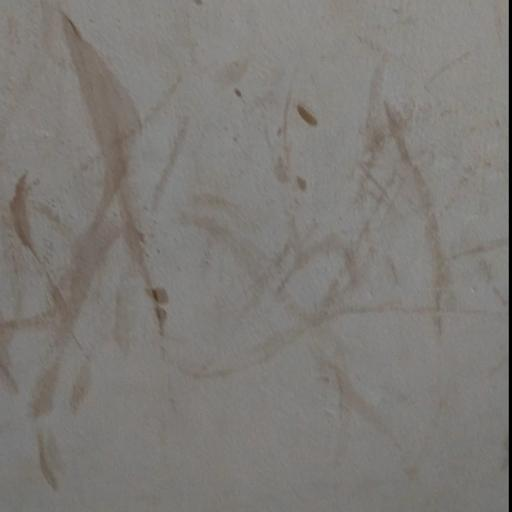stain: (16, 0, 512, 442)
